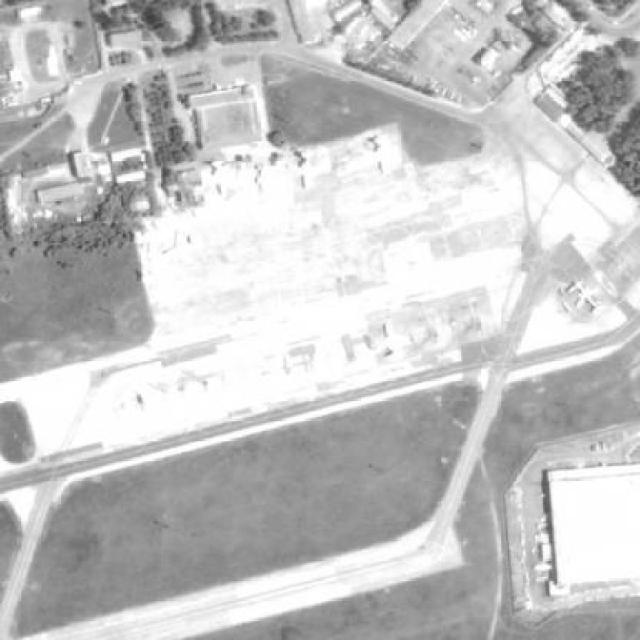airplane: (286, 153, 327, 191), (164, 230, 207, 266), (363, 137, 402, 176), (375, 326, 413, 364), (202, 162, 240, 200), (144, 259, 178, 294), (136, 222, 172, 254), (576, 287, 607, 318)
